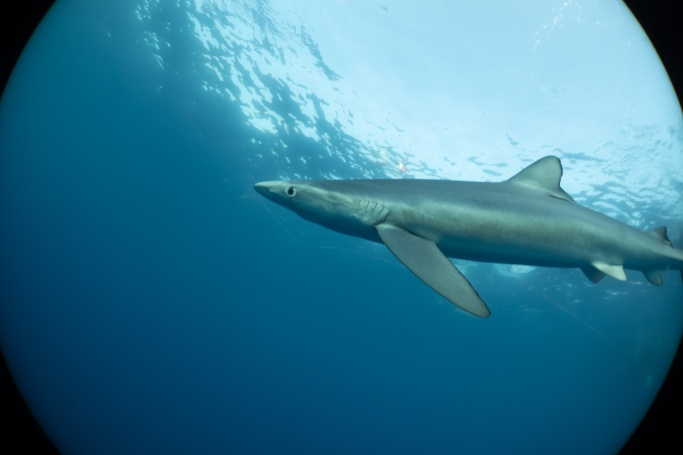Azul: (218, 129, 683, 351)
